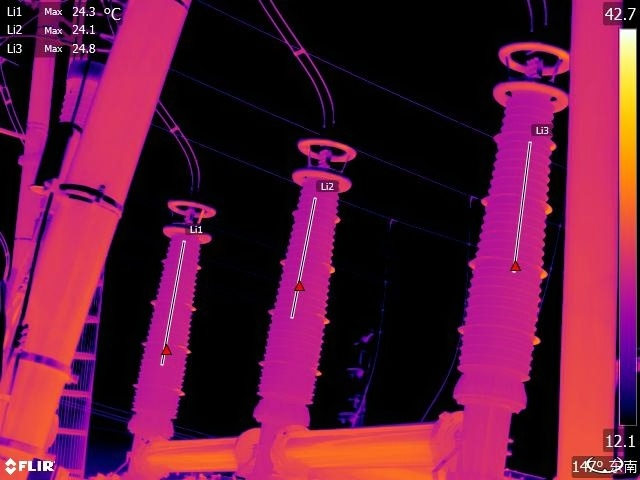tube: (448, 39, 573, 407), (249, 125, 363, 419), (127, 187, 215, 422)
